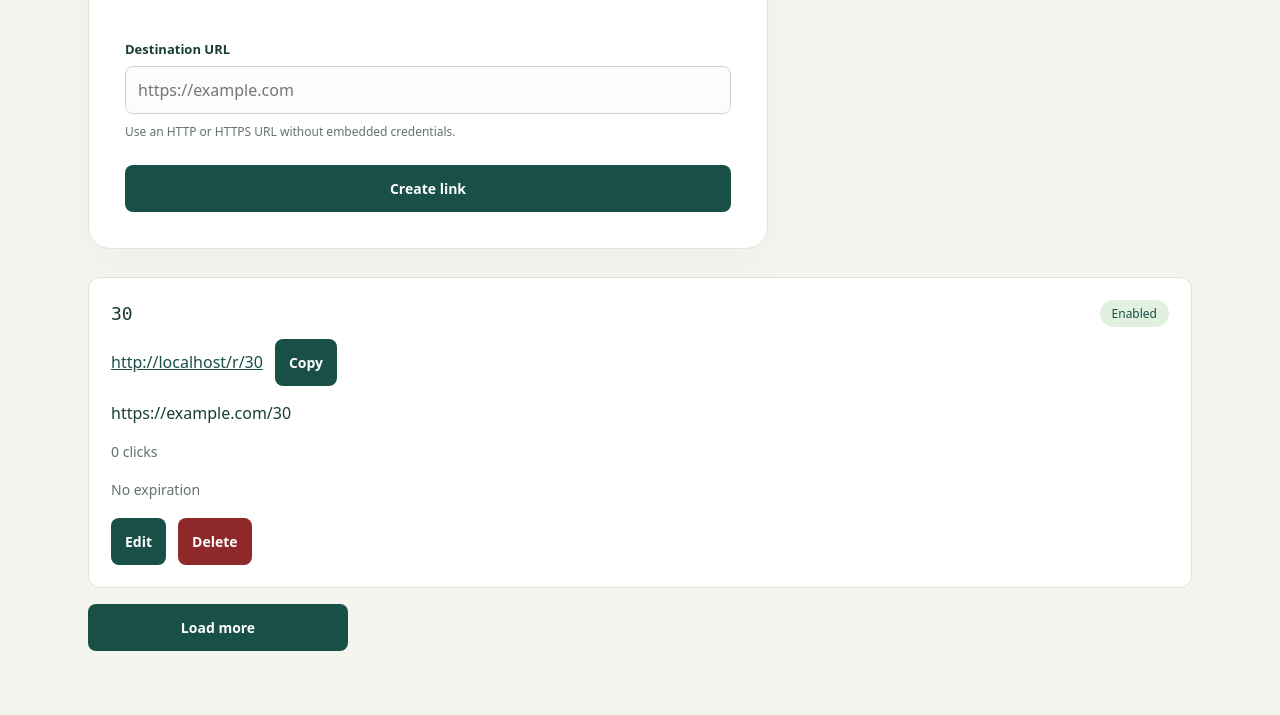
Test: creation resets an expanded list and uses the new first-page cursor
(page scrolled)
Expected: the text "https://example.com/30" is shown, [111,402,291,424]
Click the button "Load more" at coordinates (218, 627), box [88,604,348,651]
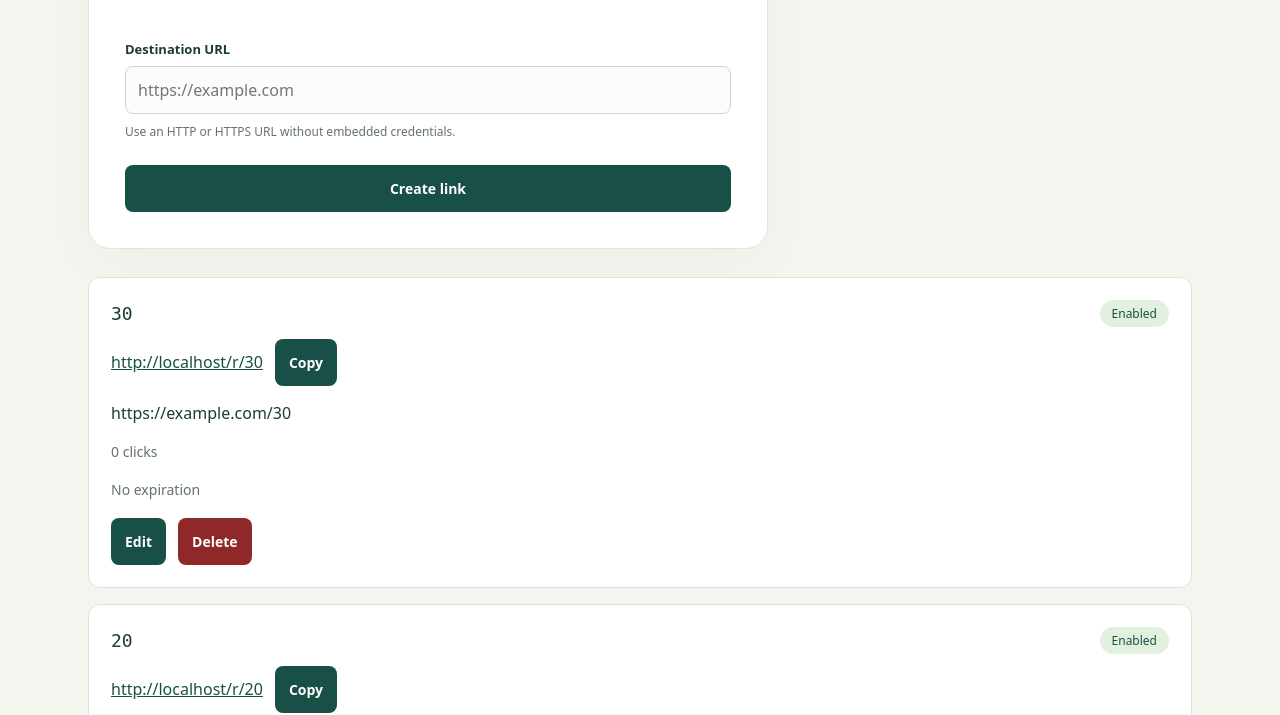
Type "https://example.com/new" into the field labelled "Destination URL" at coordinates (428, 90), box [125,66,731,114]
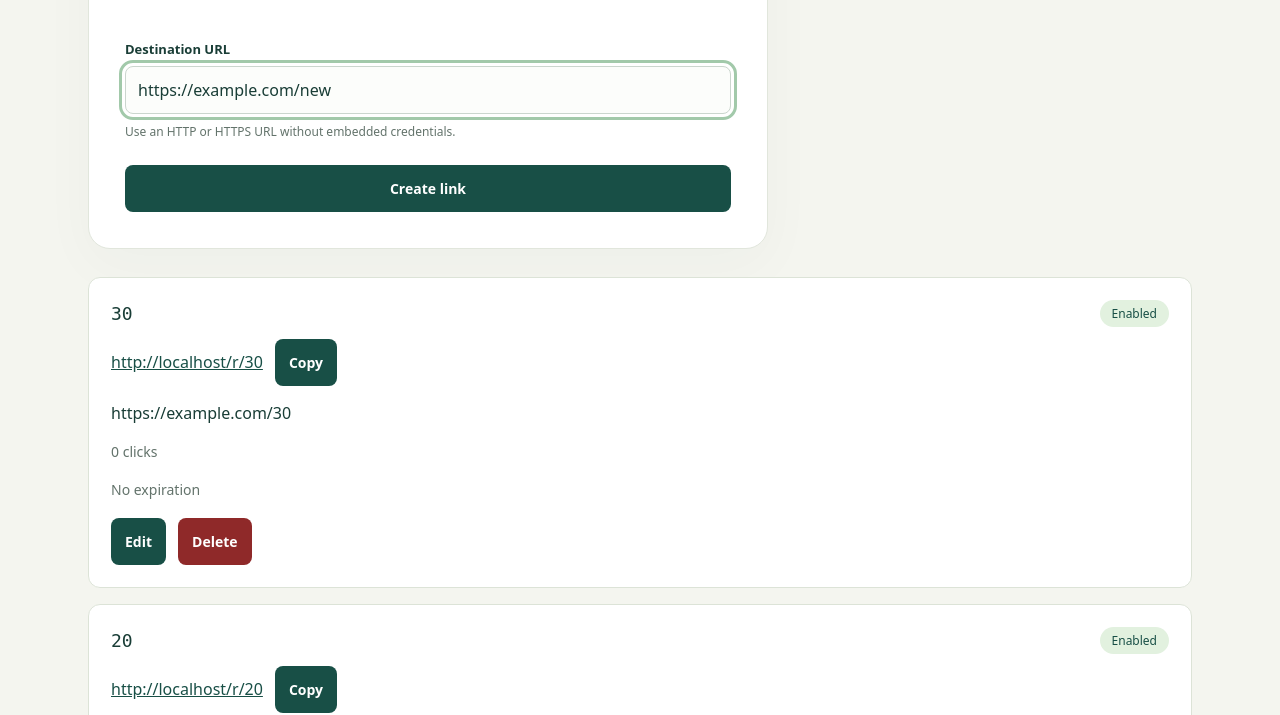
Click the button "Create link" at coordinates (428, 188), box [125,165,731,212]
(page scrolled)
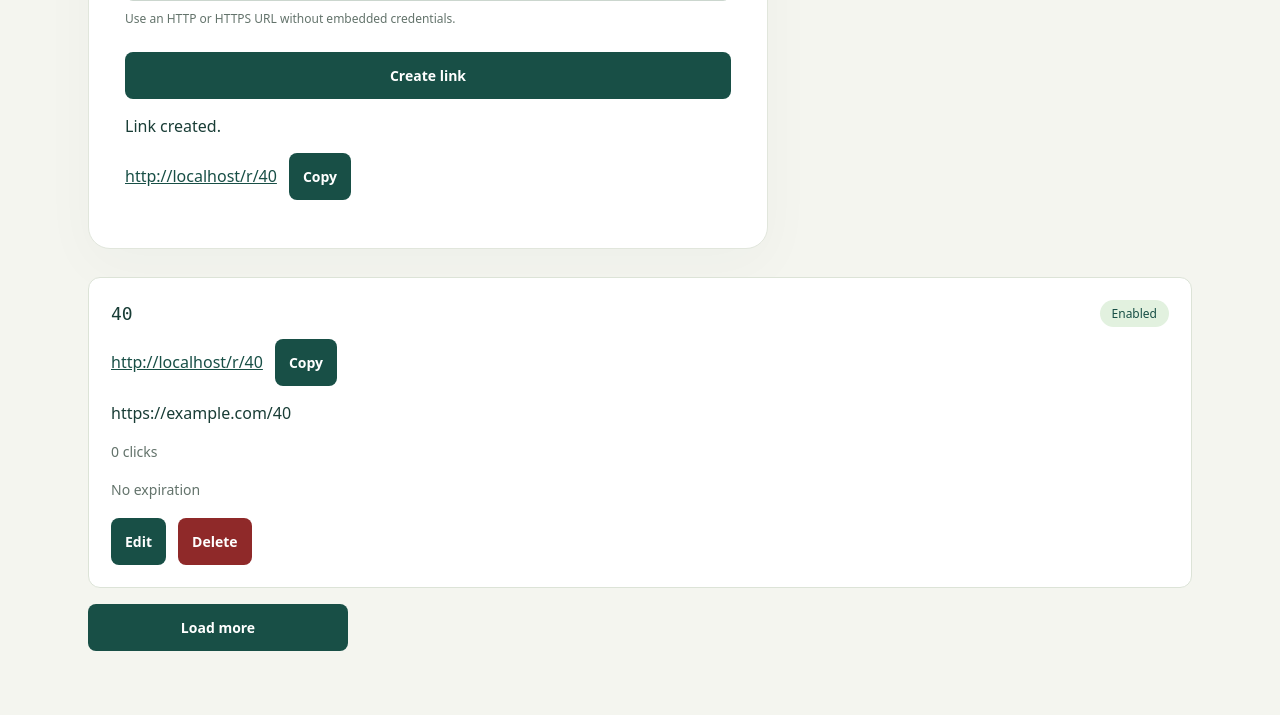
Expected: the text "https://example.com/40" is shown, [111,402,291,424]
Click the button "Load more" at coordinates (218, 627), box [88,604,348,651]
(page scrolled)
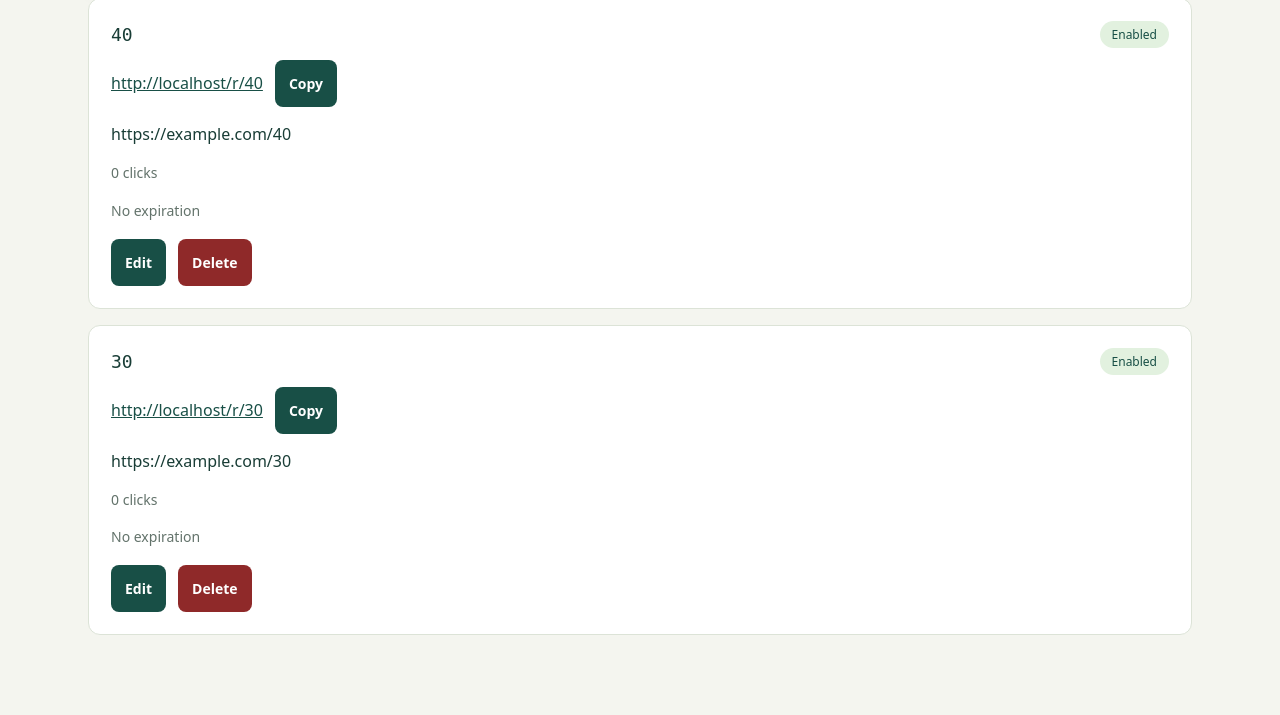
Expected: the text "https://example.com/30" is shown, [111,450,291,472]
